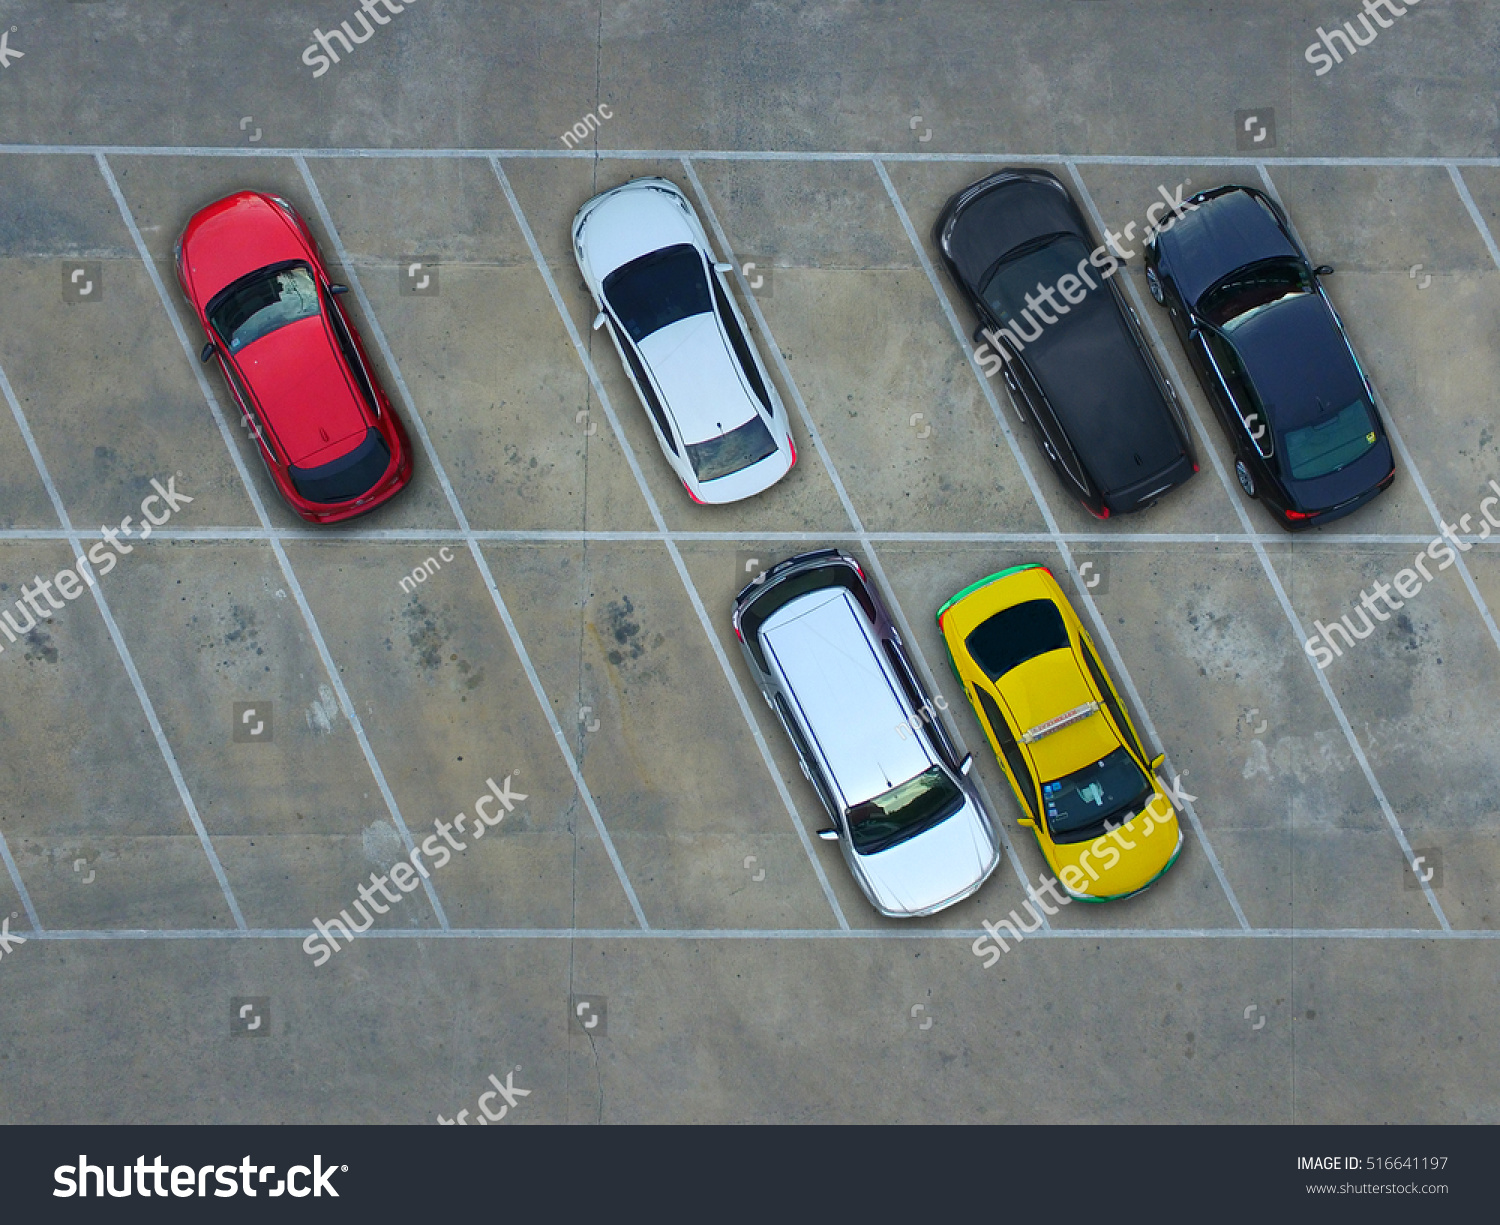Car: (724, 545, 1013, 922), (924, 161, 1215, 523), (917, 556, 1196, 918), (1135, 174, 1404, 533), (554, 163, 814, 522), (161, 178, 426, 526)
LaneMark: (2, 140, 1500, 172), (6, 528, 1500, 548), (6, 928, 1500, 943)
